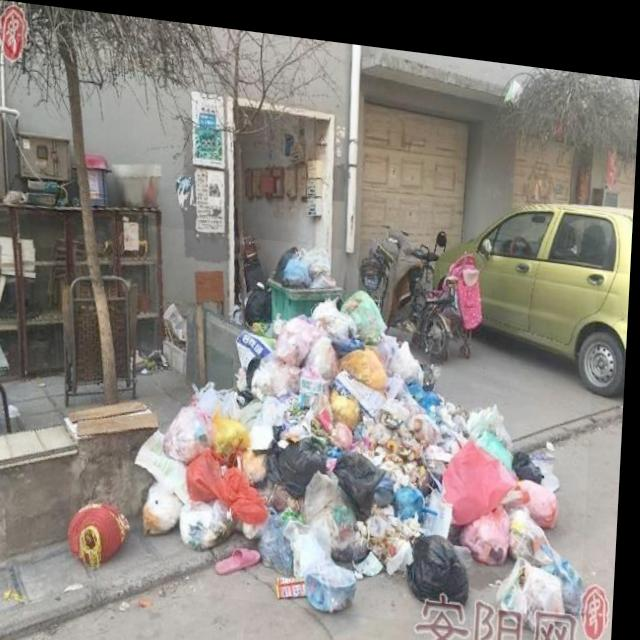garbage: (73, 214, 599, 626)
